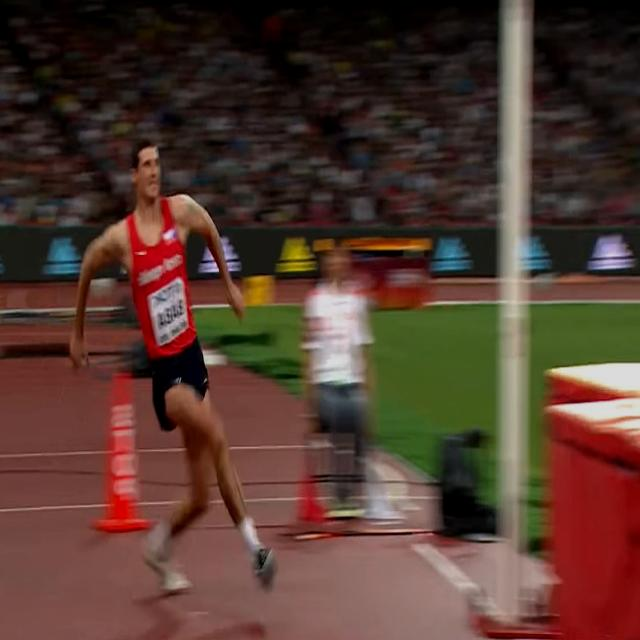run: (67, 137, 277, 602)
